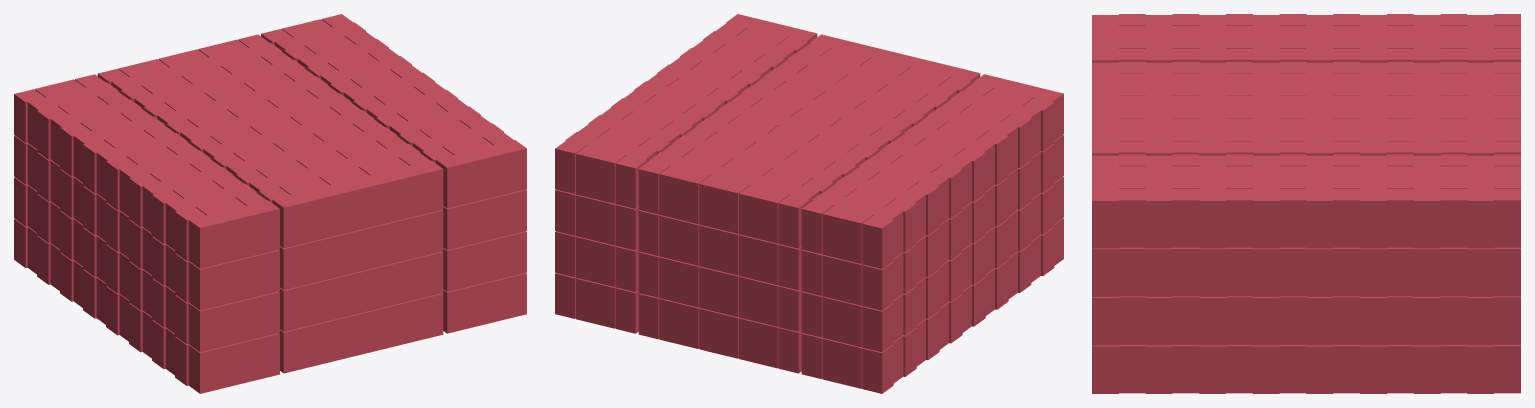
File: Funky Wluff-Bigery.glb
3 views of the same model, side by side, from view 1: azimuth 30°, elevation 25°; view 2: azimuth 150°, elevation 25°; view 3: azimuth 270°, elevation 25° (orthographic). The views are drawn at different scales.
Parts seen in each view (by area): view 1: Mesh_Mesh_head_geo.001_lambert2SG.001; view 2: Mesh_Mesh_head_geo.001_lambert2SG.001; view 3: Mesh_Mesh_head_geo.001_lambert2SG.001.
Boxes of the visible parts, x1=… form: Mesh_Mesh_head_geo.001_lambert2SG.001: x1=14, y1=14, x2=526, y2=393; Mesh_Mesh_head_geo.001_lambert2SG.001: x1=555, y1=14, x2=1063, y2=393; Mesh_Mesh_head_geo.001_lambert2SG.001: x1=1092, y1=14, x2=1520, y2=393.
Size of the model in its own units: 0.0825 by 0.0397 by 0.08.
